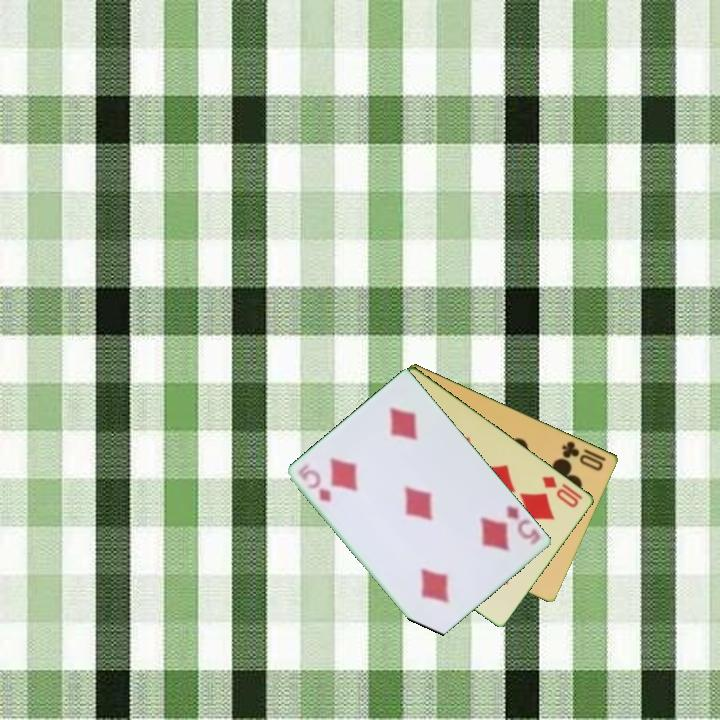10c: (558, 437, 606, 474)
10d: (538, 472, 582, 511)
5d: (503, 501, 544, 549), (303, 469, 335, 505)
